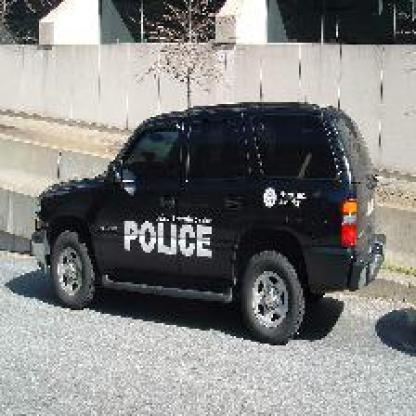emergency: (27, 97, 390, 346)
